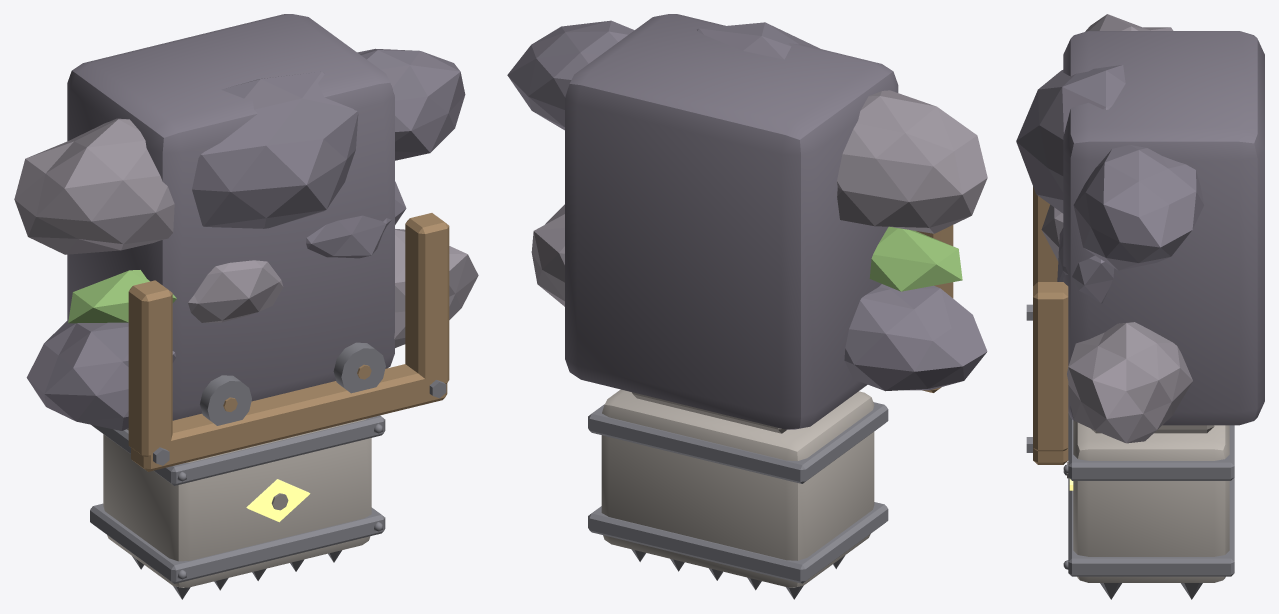
Rendered from trap_crusher.glb.
The picture shows the model from 3 angles, left to right: view 1: azimuth 30°, elevation 25°; view 2: azimuth 150°, elevation 25°; view 3: azimuth 270°, elevation 25°; orthographic projection. The views are drawn at different scales.
Parts seen in each view (by area): view 1: trap_crusher, stone; view 2: trap_crusher, stone; view 3: trap_crusher, stone.
Part boxes in pixels (bbox=[...]): trap_crusher: bbox=[14, 14, 478, 471]; stone: bbox=[90, 415, 385, 599]; trap_crusher: bbox=[507, 14, 987, 429]; stone: bbox=[588, 389, 888, 599]; trap_crusher: bbox=[1016, 14, 1264, 464]; stone: bbox=[1063, 413, 1234, 599].
Bounding box in the file's own units: 2 × 2.16 × 0.9874.
